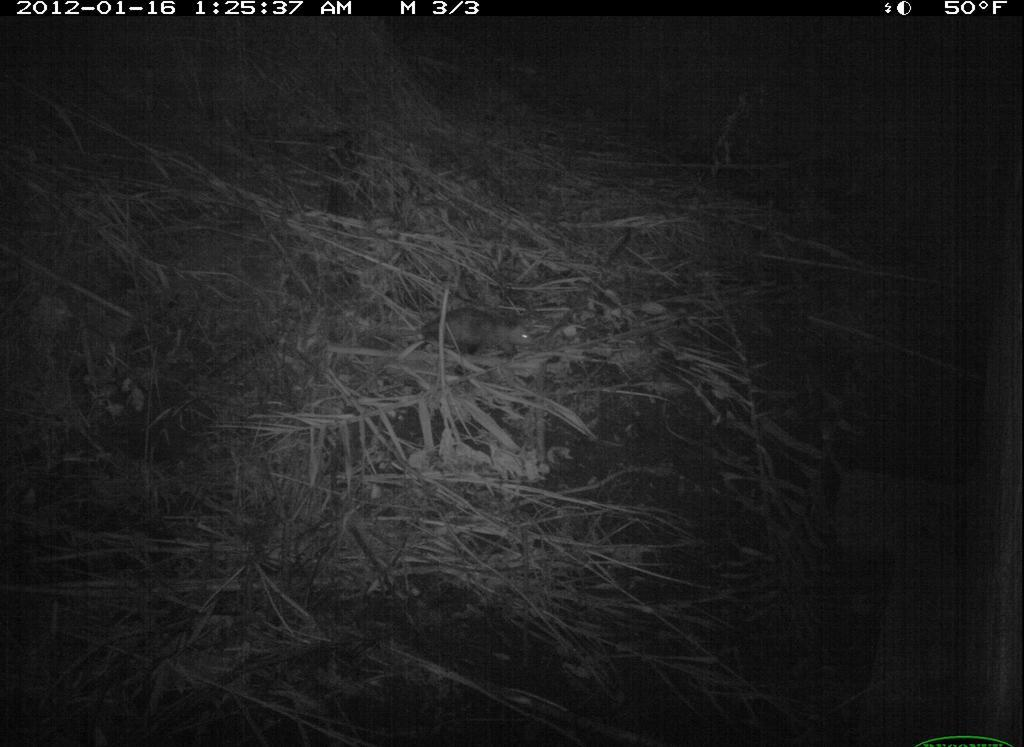opossum: (353, 309, 552, 367)
